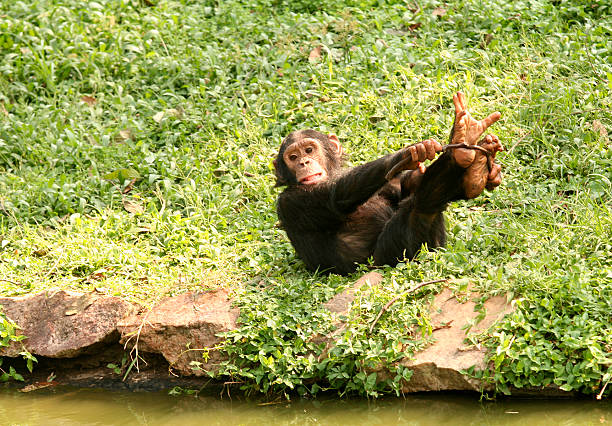chimpanzee: (263, 113, 350, 201)
